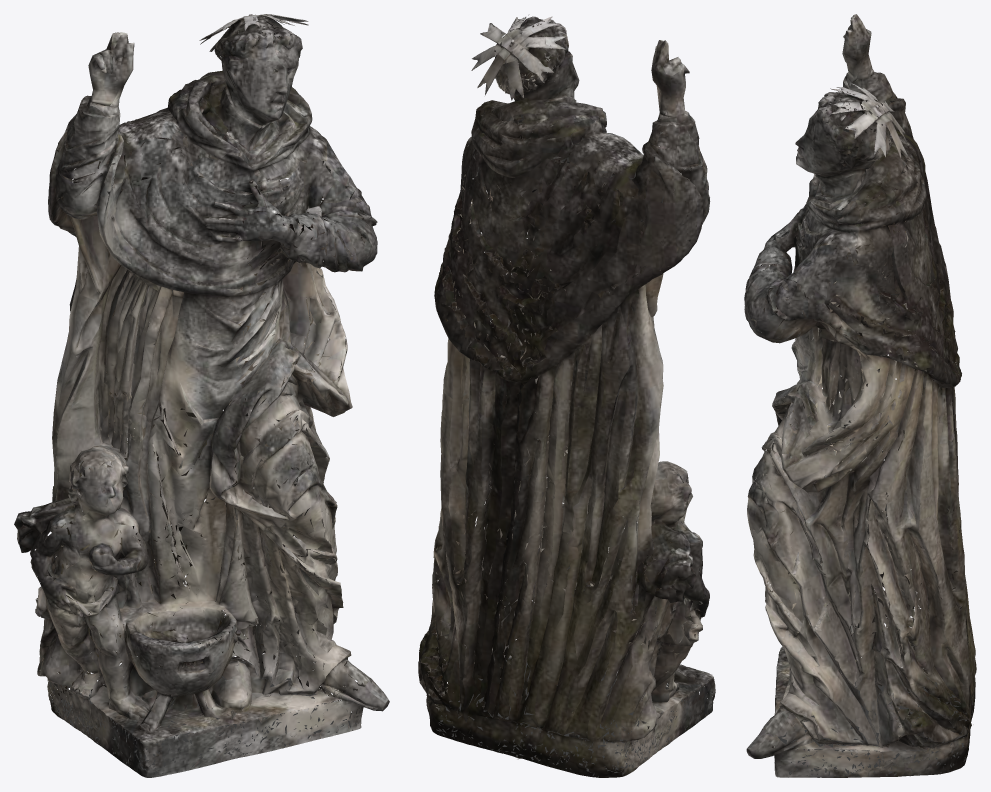
The model's file is scan-vinhson.glb.
3 renders of one model, left to right at view 1: azimuth 30°, elevation 25°; view 2: azimuth 150°, elevation 25°; view 3: azimuth 270°, elevation 25°, orthographic. The views are drawn at different scales.
Parts seen in each view (by area): view 1: geometry_5, geometry_3, geometry_2, geometry_6, geometry_4, geometry_1, geometry_7, geometry_0; view 2: geometry_2, geometry_6, geometry_1, geometry_3, geometry_4, geometry_7, geometry_5, geometry_0; view 3: geometry_4, geometry_3, geometry_6, geometry_1, geometry_5, geometry_7, geometry_2, geometry_0.
Boxes of the visible parts, x1=… form: geometry_5: x1=40, y1=130, x2=345, y2=769; geometry_3: x1=36, y1=15, x2=377, y2=686; geometry_2: x1=14, y1=43, x2=371, y2=767; geometry_6: x1=30, y1=15, x2=389, y2=712; geometry_4: x1=35, y1=147, x2=377, y2=689; geometry_1: x1=61, y1=147, x2=336, y2=694; geometry_7: x1=37, y1=14, x2=379, y2=777; geometry_0: x1=53, y1=661, x2=356, y2=777; geometry_2: x1=471, y1=61, x2=702, y2=776; geometry_6: x1=419, y1=17, x2=709, y2=751; geometry_1: x1=432, y1=164, x2=702, y2=663; geometry_3: x1=453, y1=14, x2=709, y2=713; geometry_4: x1=418, y1=141, x2=702, y2=758; geometry_7: x1=426, y1=16, x2=715, y2=777; geometry_5: x1=442, y1=146, x2=714, y2=742; geometry_0: x1=431, y1=657, x2=712, y2=777; geometry_4: x1=744, y1=208, x2=974, y2=775; geometry_3: x1=744, y1=14, x2=923, y2=748; geometry_6: x1=746, y1=101, x2=976, y2=758; geometry_1: x1=747, y1=211, x2=966, y2=708; geometry_5: x1=748, y1=151, x2=915, y2=714; geometry_7: x1=762, y1=83, x2=975, y2=777; geometry_2: x1=763, y1=92, x2=976, y2=774; geometry_0: x1=774, y1=678, x2=974, y2=777.
Size of the model in its own units: 0.8408 by 2 by 0.6282.
Materials: 2 (1 with a texture image).
